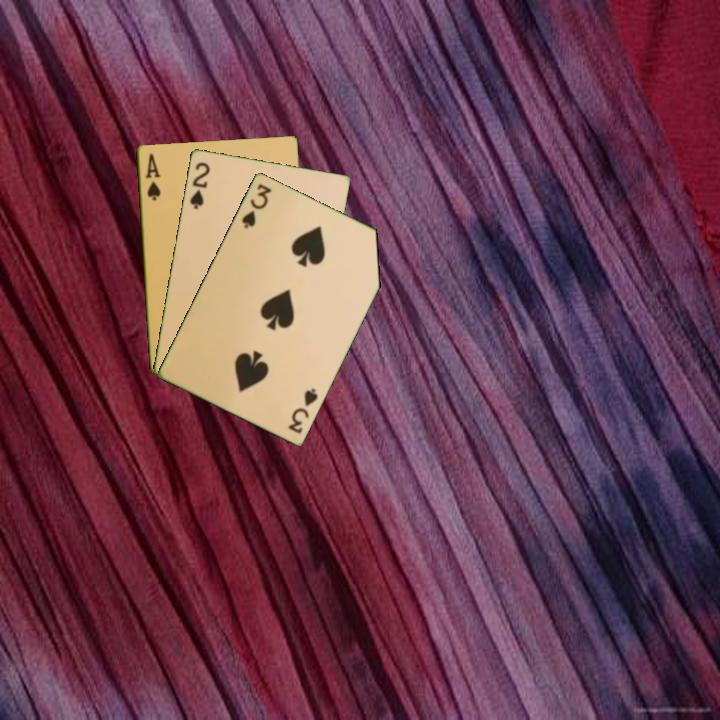2s: (186, 158, 212, 211)
3s: (284, 384, 321, 436), (238, 180, 274, 231)
As: (141, 150, 163, 203)
